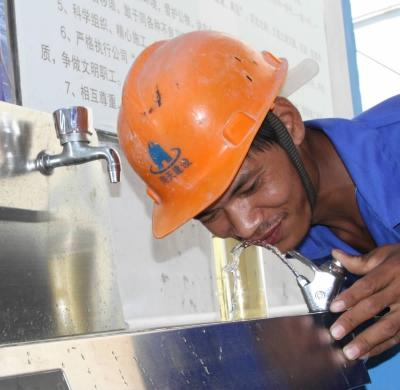helmet: (117, 32, 287, 242), (287, 238, 289, 240)
